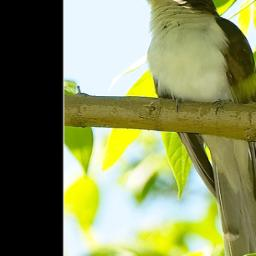Cuckoo: (122, 0, 256, 256)
